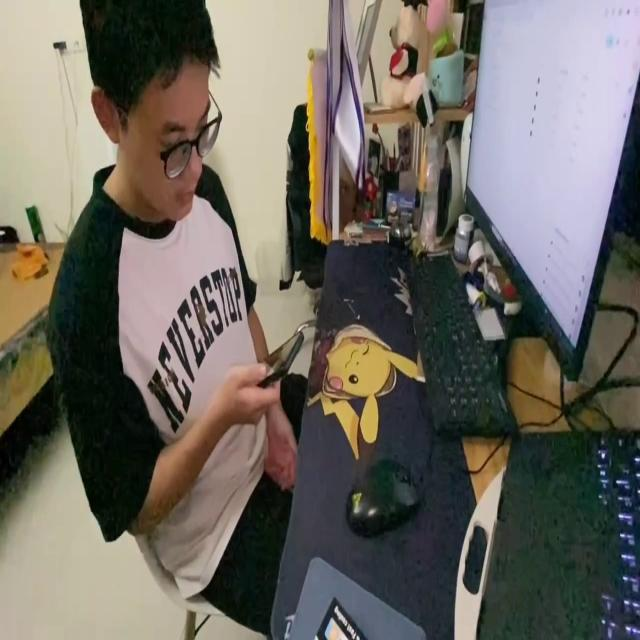laptop: (461, 1, 640, 383)
phone: (251, 322, 302, 382)
student: (48, 3, 307, 606)
